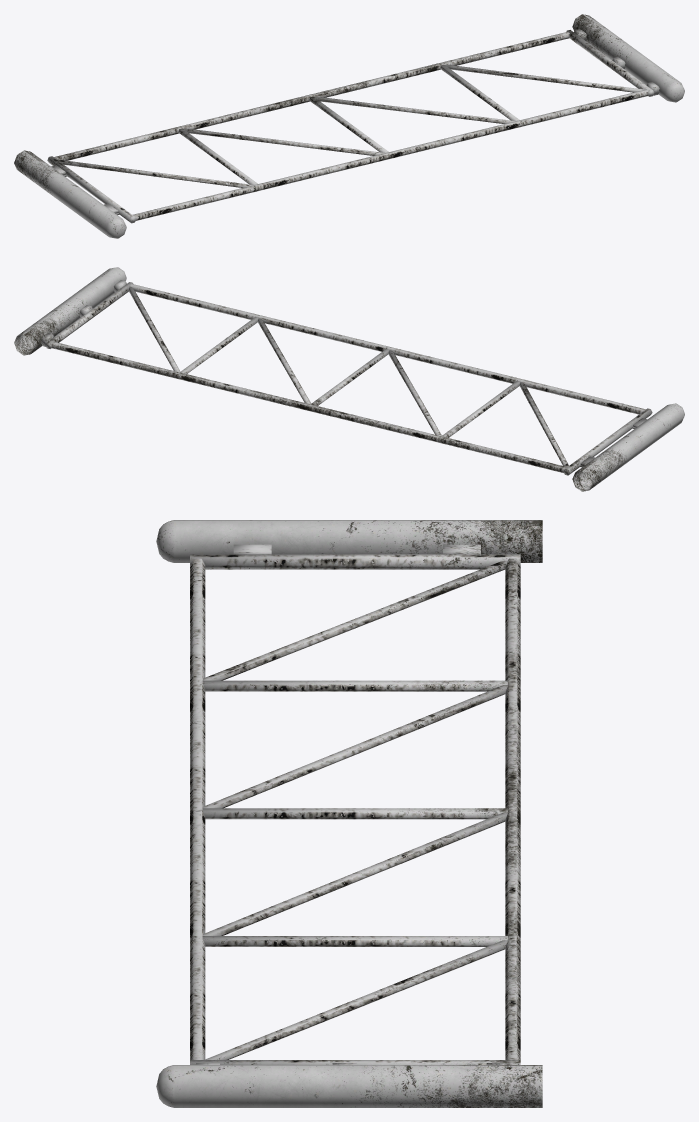
Rendered from Metal_Gate.obj.
The picture shows the model from 3 angles, top to bottom: view 1: azimuth 30°, elevation 25°; view 2: azimuth 150°, elevation 25°; view 3: azimuth 270°, elevation 25°; orthographic projection. The views are drawn at different scales.
Visible parts, largest first — view 1: Metal_Gate; view 2: Metal_Gate; view 3: Metal_Gate.
Part boxes in pixels (x1,y1,x2,y2): Metal_Gate: [14, 14, 684, 238]; Metal_Gate: [14, 267, 684, 491]; Metal_Gate: [156, 520, 542, 1107].
Size of the model in its own units: 4.42 by 0.1515 by 1.28.
1 material, 1 textured.
